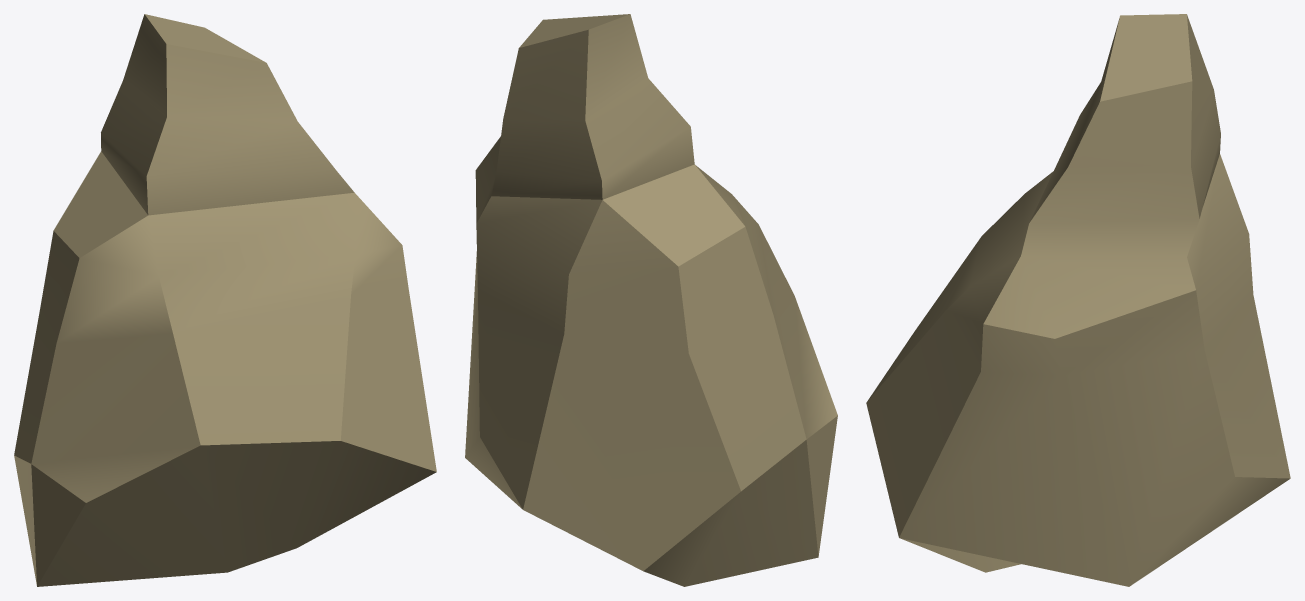
Rendered from rock_2.fbx.
3 views of the same model, side by side, from view 1: azimuth 30°, elevation 25°; view 2: azimuth 150°, elevation 25°; view 3: azimuth 270°, elevation 25° (orthographic). The views are drawn at different scales.
Visible parts, largest first — view 1: rock_2; view 2: rock_2; view 3: rock_2.
Part boxes in pixels (x1,y1,x2,y2): rock_2: (14, 14, 436, 586); rock_2: (465, 14, 837, 586); rock_2: (866, 14, 1290, 586).
Size of the model in its own units: 8.52 by 12.57 by 8.66.
